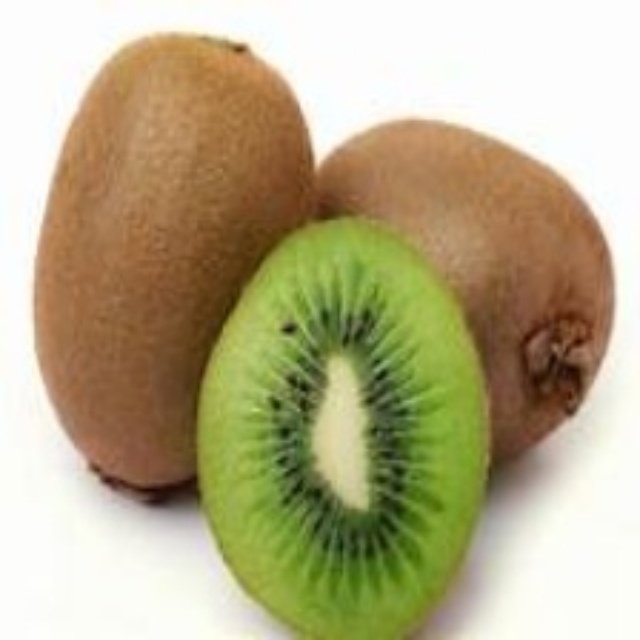kiwi: (205, 220, 493, 631), (55, 36, 299, 507), (322, 123, 612, 469)
